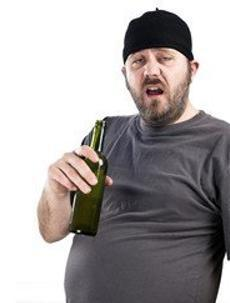Drunk: (126, 52, 184, 119)
